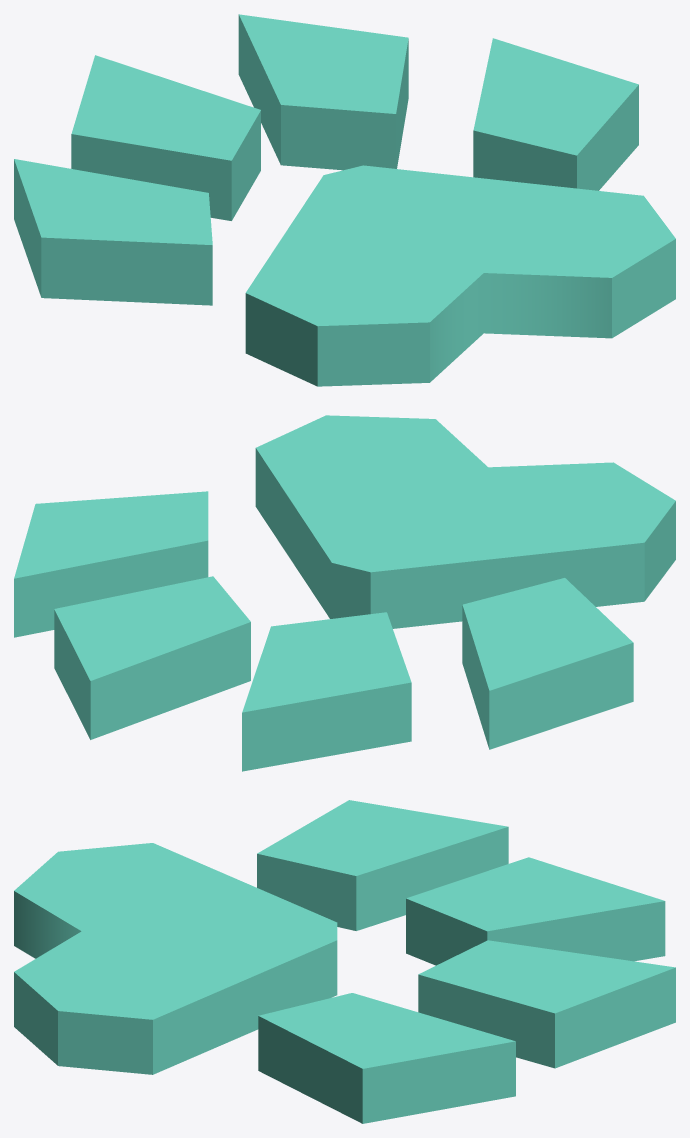
The model's file is patoune_de_loup.fbx.
The picture shows the model from 3 angles, top to bottom: view 1: azimuth 30°, elevation 25°; view 2: azimuth 150°, elevation 25°; view 3: azimuth 270°, elevation 25°; orthographic projection. The views are drawn at different scales.
Visible parts, largest first — view 1: pCube1, pasted__pCube2 (×2), polySurface4, polySurface2; view 2: pCube1, pasted__pCube2 (×2), polySurface4, polySurface2; view 3: pCube1, pasted__pCube2 (×2), polySurface2, polySurface4.
Boxes of the visible parts, x1,y1,x2,y2 form: pCube1: (245, 165, 675, 386); pasted__pCube2 (×2): (14, 55, 260, 305); polySurface4: (238, 14, 408, 170); polySurface2: (473, 38, 638, 190); pCube1: (255, 415, 675, 628); pasted__pCube2 (×2): (242, 578, 633, 771); polySurface4: (54, 576, 250, 739); polySurface2: (14, 491, 208, 637); pCube1: (14, 843, 337, 1074); pasted__pCube2 (×2): (257, 800, 665, 965); polySurface2: (258, 993, 515, 1123); polySurface4: (418, 940, 675, 1068).
Bounding box in the file's own units: 3.6 × 0.344 × 3.75.
